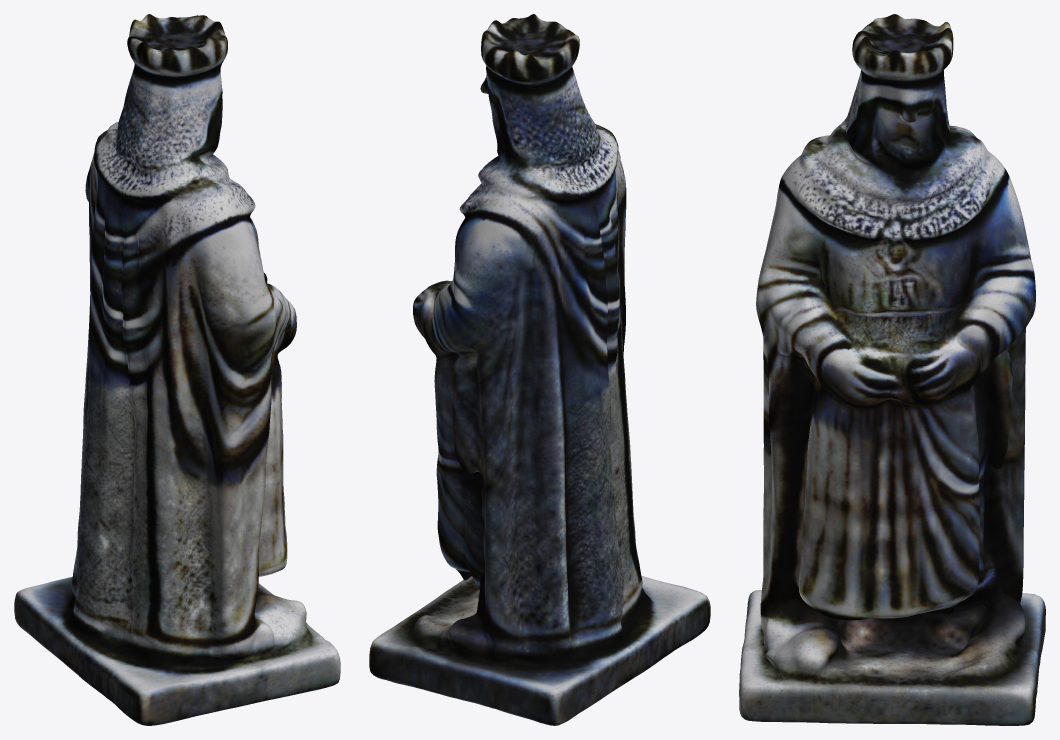
File: a1127ab1d9cb_grey_medieval_statu.fbx
3 renders of one model, left to right at view 1: azimuth 30°, elevation 25°; view 2: azimuth 150°, elevation 25°; view 3: azimuth 270°, elevation 25°, orthographic. The views are drawn at different scales.
Parts seen in each view (by area): view 1: high_poly; view 2: high_poly; view 3: high_poly.
Boxes of the visible parts, x1,y1,x2,y2 form: high_poly: (14, 14, 340, 725); high_poly: (369, 14, 710, 725); high_poly: (739, 14, 1045, 725).
Size of the model in its own units: 35.02 by 100 by 42.9.
